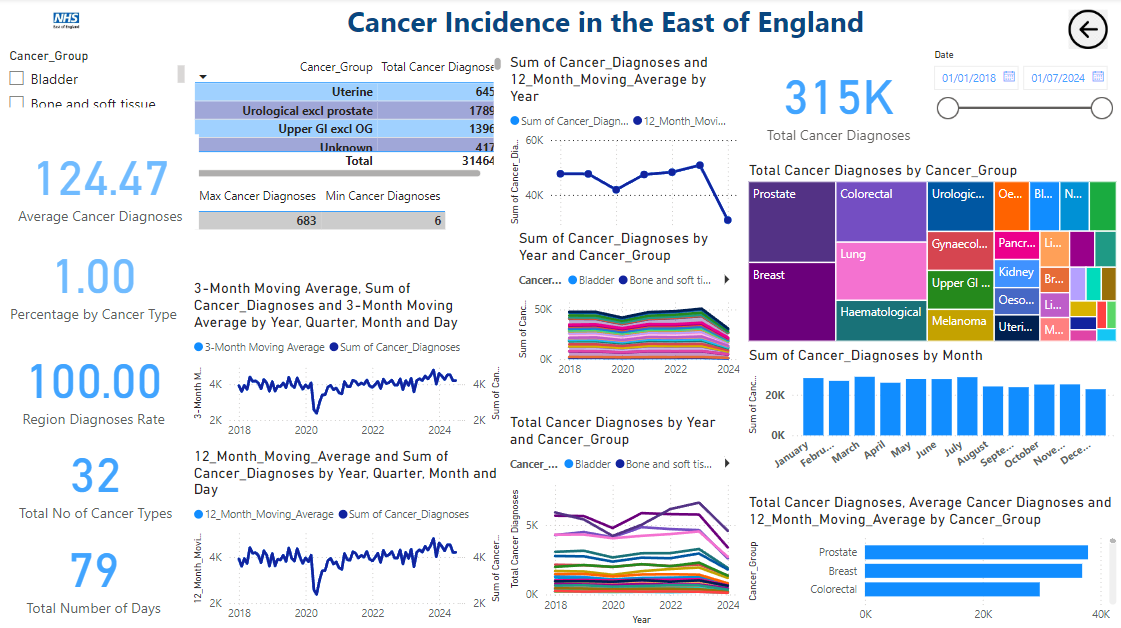

The dashboard page shown, as its layout file describes it:
{"tool":"powerbi","page":{"name":"Page 1","canvas":[1280,720],"ordinal":0},"visuals":[{"type":"lineChart","fields":{"Y":["NHS_DATA.3-Month Moving Average"],"Y2":["Sum(NHS_DATA.Cancer_Diagnoses)"],"Category":["NHS_DATA.Date.Variation.Date Hierarchy.Year","NHS_DATA.Date.Variation.Date Hierarchy.Quarter","NHS_DATA.Date.Variation.Date Hierarchy.Month","NHS_DATA.Date.Variation.Date Hierarchy.Day"]},"box":[218.2,321.1,360.9,190.7],"z":0},{"type":"lineChart","fields":{"Y":["NHS_DATA.12_Month_Moving_Average"],"Y2":["Sum(NHS_DATA.Cancer_Diagnoses)"],"Category":["NHS_DATA.Date.Variation.Date Hierarchy.Year","NHS_DATA.Date.Variation.Date Hierarchy.Quarter","NHS_DATA.Date.Variation.Date Hierarchy.Month","NHS_DATA.Date.Variation.Date Hierarchy.Day"]},"box":[218.2,511.8,360.9,208.6],"z":1000},{"type":"tableEx","fields":{"Values":["NHS_DATA.Cancer_Group","NHS_DATA.Total Cancer Diagnoses"]},"box":[217.9,63,393.2,146.4],"z":2000},{"type":"textbox","box":[330.7,0,724.5,52.1],"z":3000},{"type":"tableEx","fields":{"Values":["NHS_DATA.Max Cancer Diagnoses","NHS_DATA.Min Cancer Diagnoses","NHS_DATA.CancerGroupHighestDiagnoses","NHS_DATA.MonthYearHighestDiagnoses","NHS_DATA.CancerGroupLowestDiagnoses","NHS_DATA.MonthYearLowestDiagnoses"]},"box":[228.1,209.4,350.6,112.3],"z":4000},{"type":"slicer","fields":{"Values":["NHS_DATA.Cancer_Group"]},"box":[0,52.7,218.1,75.5],"z":5000},{"type":"card","fields":{"Values":["NHS_DATA.Percentage by Cancer Type"]},"box":[0,263.5,218.2,115.3],"z":6000},{"type":"card","fields":{"Values":["NHS_DATA.Total No of Cancer Types"]},"box":[4.1,496.7,214.1,105.7],"z":7000},{"type":"card","fields":{"Values":["NHS_DATA.Total Number of Days"]},"box":[0,602.4,218.2,107],"z":8000},{"type":"card","fields":{"Values":["NHS_DATA.Region Diagnoses Rate"]},"box":[0,387,218.2,109.8],"z":9000},{"type":"card","fields":{"Values":["NHS_DATA.Average Cancer Diagnoses"]},"box":[4.1,155.1,225,108.4],"z":10000},{"type":"treemap","fields":{"Group":["NHS_DATA.Cancer_Group"],"Values":["NHS_DATA.Total Cancer Diagnoses"]},"box":[850.8,185.2,429.5,211.3],"z":11000},{"type":"lineChart","fields":{"Category":["NHS_DATA.Date.Variation.Date Hierarchy.Year","NHS_DATA.Date.Variation.Date Hierarchy.Month"],"Y":["NHS_DATA.Total Cancer Diagnoses"],"Series":["NHS_DATA.Cancer_Group"]},"box":[611.1,473.2,240,246.8],"z":12000},{"type":"columnChart","fields":{"Category":["NHS_DATA.Date.Variation.Date Hierarchy.Month"],"Y":["Sum(NHS_DATA.Cancer_Diagnoses)"]},"box":[850.8,396.6,429.5,153.7],"z":13000},{"type":"barChart","fields":{"Category":["NHS_DATA.Cancer_Group"],"Y":["NHS_DATA.Total Cancer Diagnoses"]},"box":[850.8,564,429.5,156.4],"z":14000},{"type":"lineChart","fields":{"Category":["NHS_DATA.Date.Variation.Date Hierarchy.Year","NHS_DATA.Date.Variation.Date Hierarchy.Month"],"Y":["Sum(NHS_DATA.Cancer_Diagnoses)","NHS_DATA.12_Month_Moving_Average"]},"box":[578.7,63,272.3,234.9],"z":15000},{"type":"slicer","fields":{"Values":["NHS_DATA.Date"]},"box":[1055.2,52.1,225,93.3],"z":16000},{"type":"card","fields":{"Values":["NHS_DATA.Total Cancer Diagnoses"]},"box":[850.8,63.1,215.4,108.4],"z":17000},{"type":"stackedAreaChart","fields":{"Category":["NHS_DATA.Date.Variation.Date Hierarchy.Year","NHS_DATA.Date.Variation.Date Hierarchy.Quarter","NHS_DATA.Date.Variation.Date Hierarchy.Month","NHS_DATA.Date.Variation.Date Hierarchy.Day"],"Y":["Sum(NHS_DATA.Cancer_Diagnoses)"],"Series":["NHS_DATA.Cancer_Group"]},"box":[578.7,263.8,272.3,178.7],"z":18000},{"type":"image","box":[20.6,0,116.6,52.1],"z":19000},{"type":"image","box":[1215.8,8.2,54.9,54.9],"z":20000}]}

Visuals, with their boxes in screenshot pixels (x1, y1, x2, y2), scaled from the page's 1280x720 canvas onto the 1121x628 screenshot:
lineChart - NHS_DATA.3-Month Moving Average x Sum(NHS_DATA.Cancer_Diagnoses): box=[191, 280, 507, 446]
lineChart - NHS_DATA.12_Month_Moving_Average x Sum(NHS_DATA.Cancer_Diagnoses): box=[191, 446, 507, 627]
tableEx - NHS_DATA.Cancer_Group x NHS_DATA.Total Cancer Diagnoses: box=[191, 55, 535, 183]
textbox: box=[290, 0, 924, 45]
tableEx - NHS_DATA.Max Cancer Diagnoses x NHS_DATA.Min Cancer Diagnoses: box=[200, 183, 507, 281]
slicer - NHS_DATA.Cancer_Group: box=[0, 46, 191, 112]
card - NHS_DATA.Percentage by Cancer Type: box=[0, 230, 191, 330]
card - NHS_DATA.Total No of Cancer Types: box=[4, 433, 191, 525]
card - NHS_DATA.Total Number of Days: box=[0, 525, 191, 619]
card - NHS_DATA.Region Diagnoses Rate: box=[0, 338, 191, 433]
card - NHS_DATA.Average Cancer Diagnoses: box=[4, 135, 201, 230]
treemap - NHS_DATA.Cancer_Group x NHS_DATA.Total Cancer Diagnoses: box=[745, 162, 1120, 346]
lineChart - NHS_DATA.Date.Variation.Date Hierarchy.Year x NHS_DATA.Date.Variation.Date Hierarchy.Month: box=[535, 413, 745, 627]
columnChart - NHS_DATA.Date.Variation.Date Hierarchy.Month x Sum(NHS_DATA.Cancer_Diagnoses): box=[745, 346, 1120, 480]
barChart - NHS_DATA.Cancer_Group x NHS_DATA.Total Cancer Diagnoses: box=[745, 492, 1120, 627]
lineChart - NHS_DATA.Date.Variation.Date Hierarchy.Year x NHS_DATA.Date.Variation.Date Hierarchy.Month: box=[507, 55, 745, 260]
slicer - NHS_DATA.Date: box=[924, 45, 1120, 127]
card - NHS_DATA.Total Cancer Diagnoses: box=[745, 55, 934, 150]
stackedAreaChart - NHS_DATA.Date.Variation.Date Hierarchy.Year x NHS_DATA.Date.Variation.Date Hierarchy.Quarter: box=[507, 230, 745, 386]
image: box=[18, 0, 120, 45]
image: box=[1065, 7, 1113, 55]
